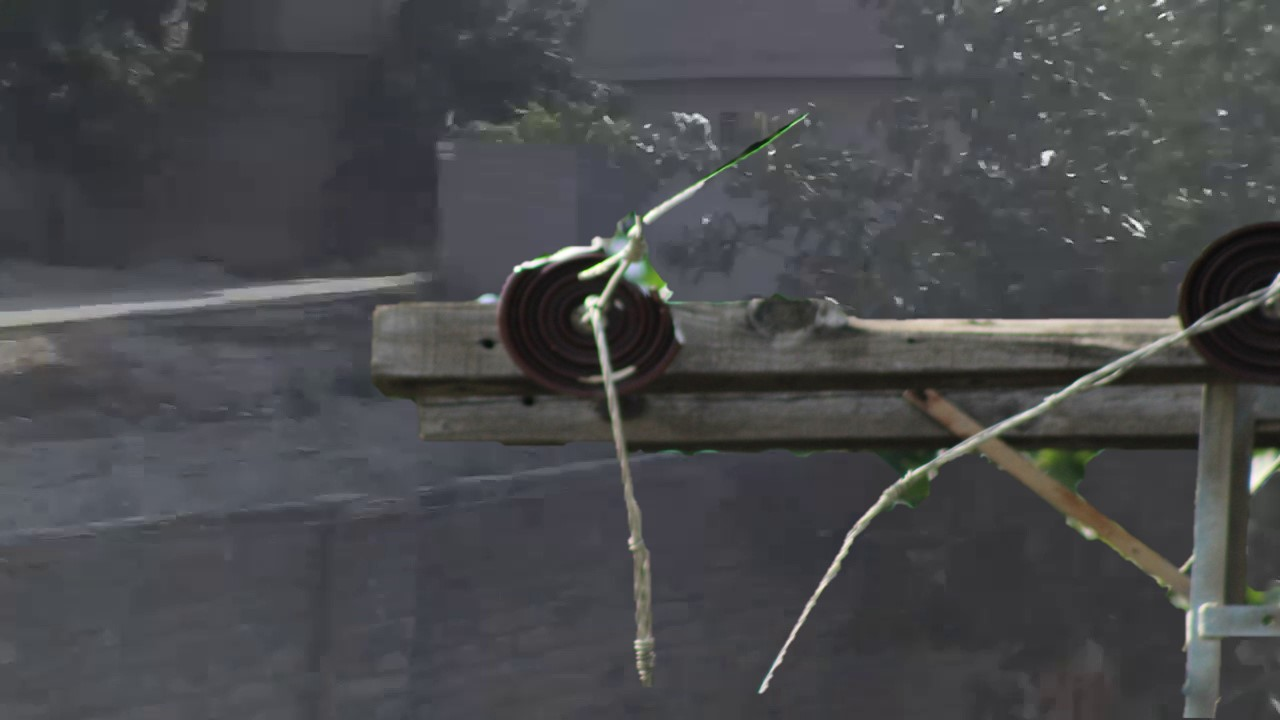defect_disc: (496, 236, 689, 402)
